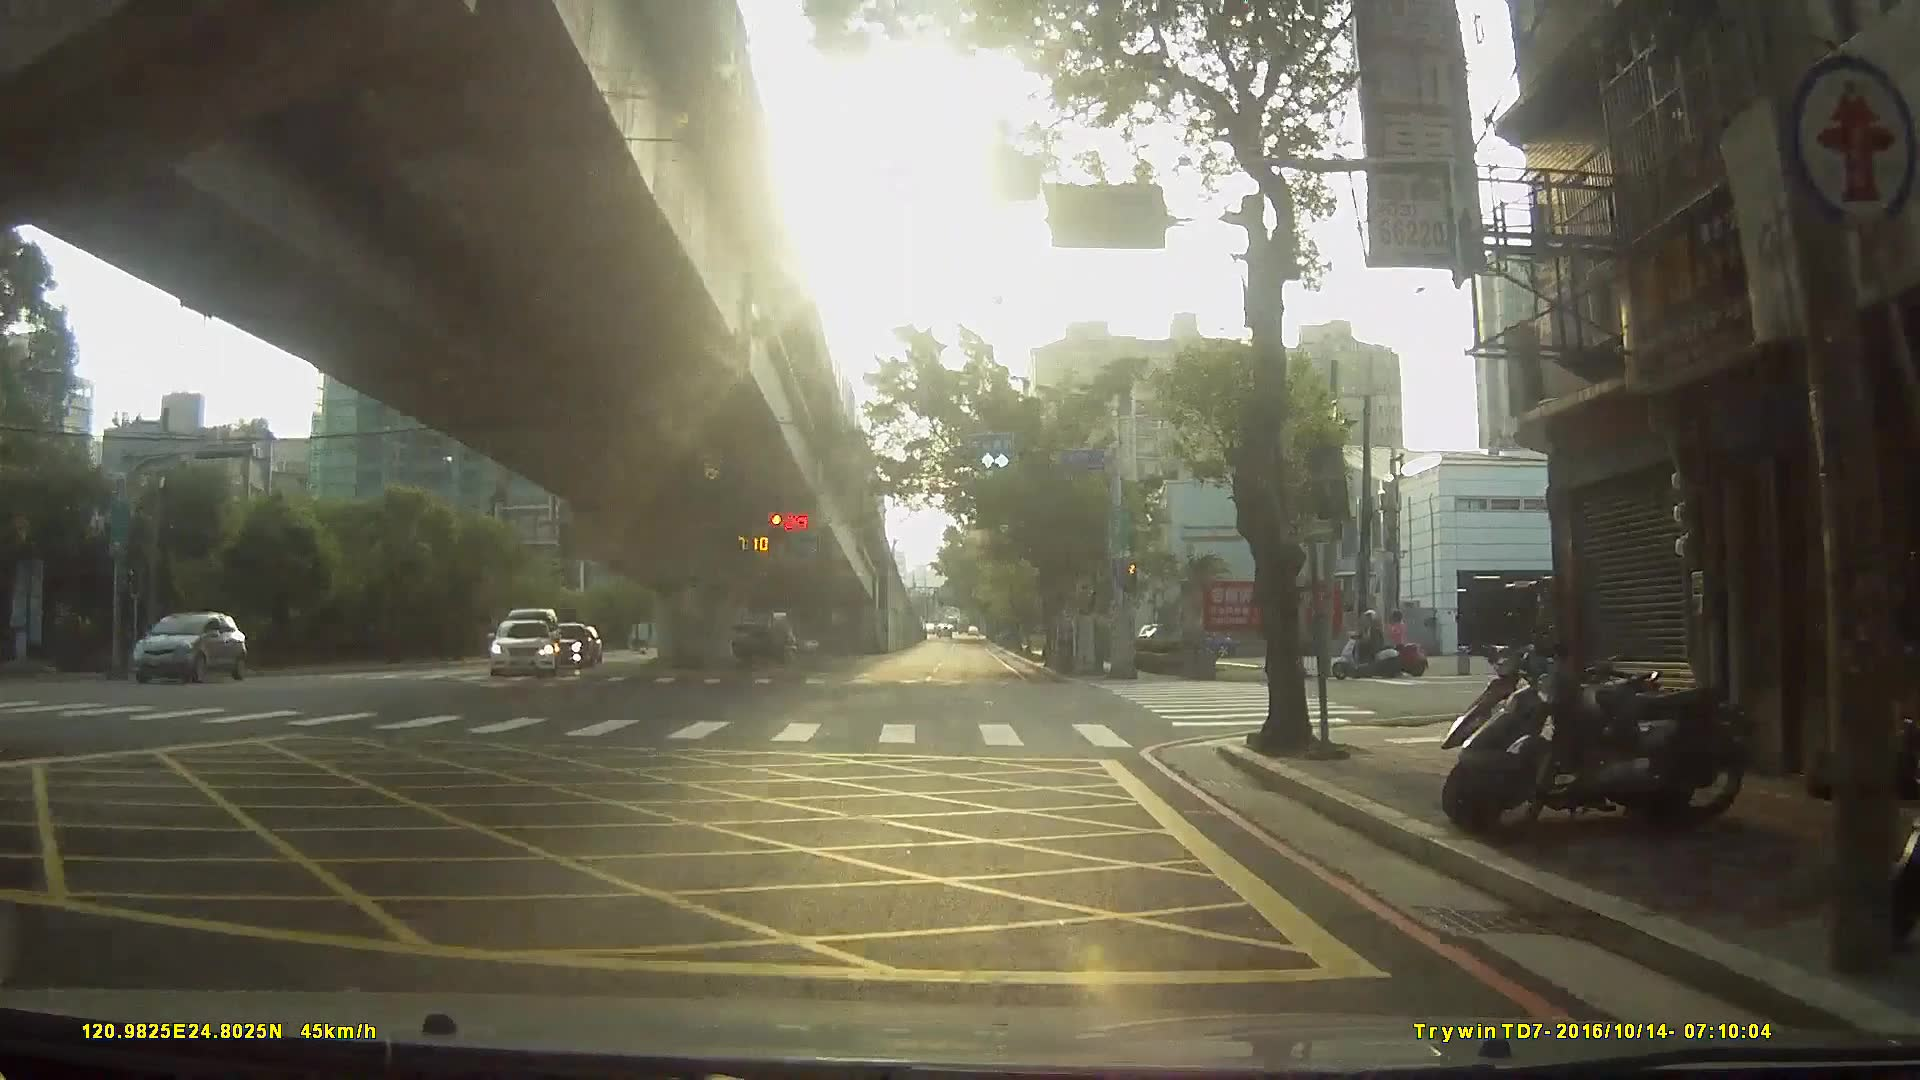rider: (1333, 609, 1403, 679)
vehicle: (112, 608, 250, 681), (481, 617, 555, 678), (706, 619, 794, 664), (536, 620, 592, 667)
